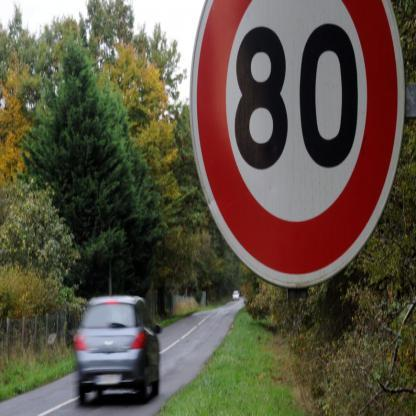Speed Limit 80: (197, 1, 403, 278)
